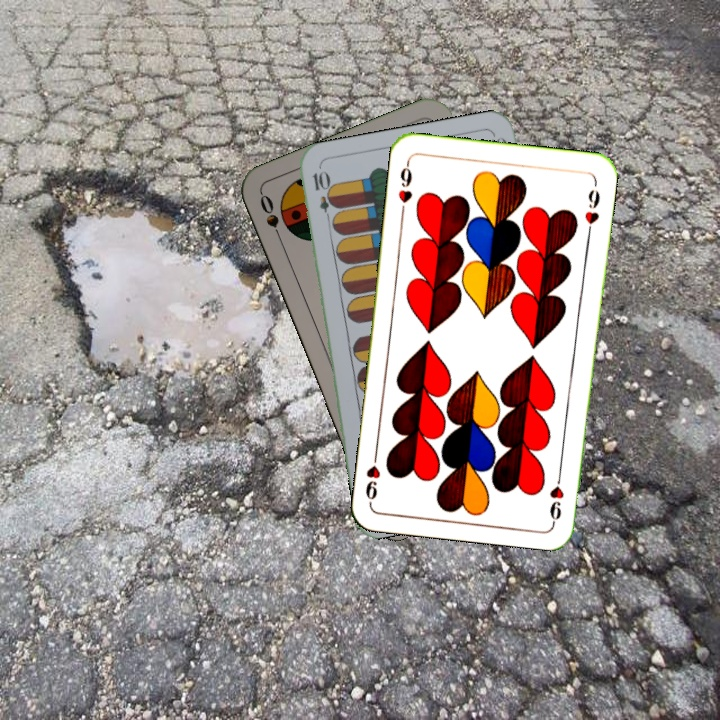E10: (308, 167, 335, 226)
H9: (394, 157, 415, 216), (546, 465, 566, 524)
SO: (255, 190, 286, 247)
